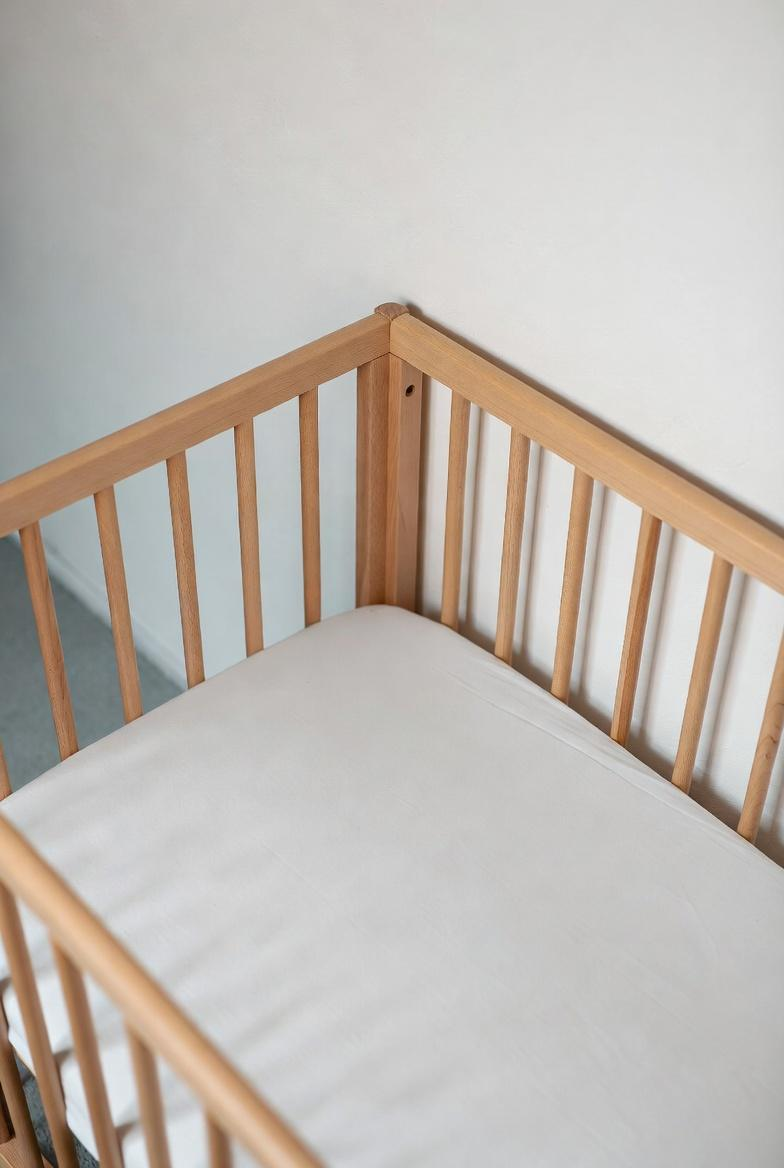crib: (0, 292, 784, 1168)
